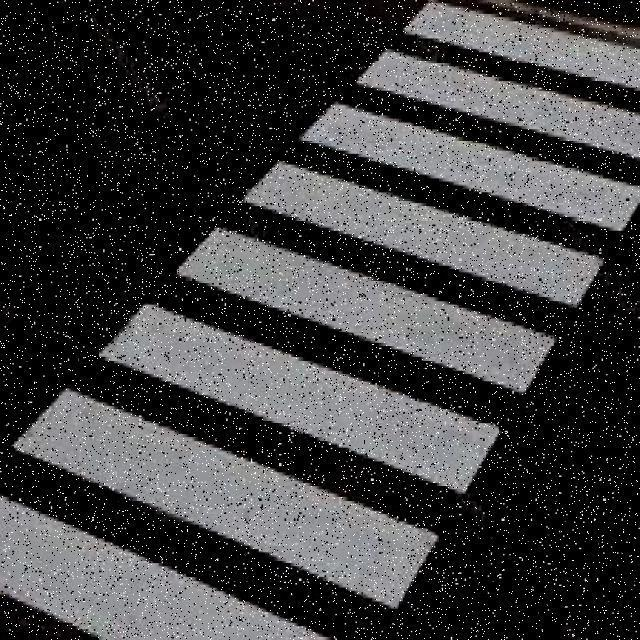Pedestrian crosswalk: (2, 0, 640, 637)
